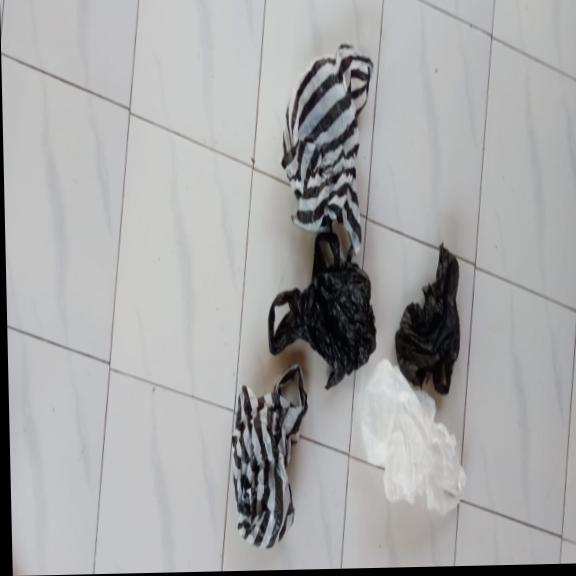Plastik: (277, 43, 378, 257), (266, 229, 377, 391), (359, 358, 467, 518), (230, 363, 312, 551), (393, 243, 462, 399)
